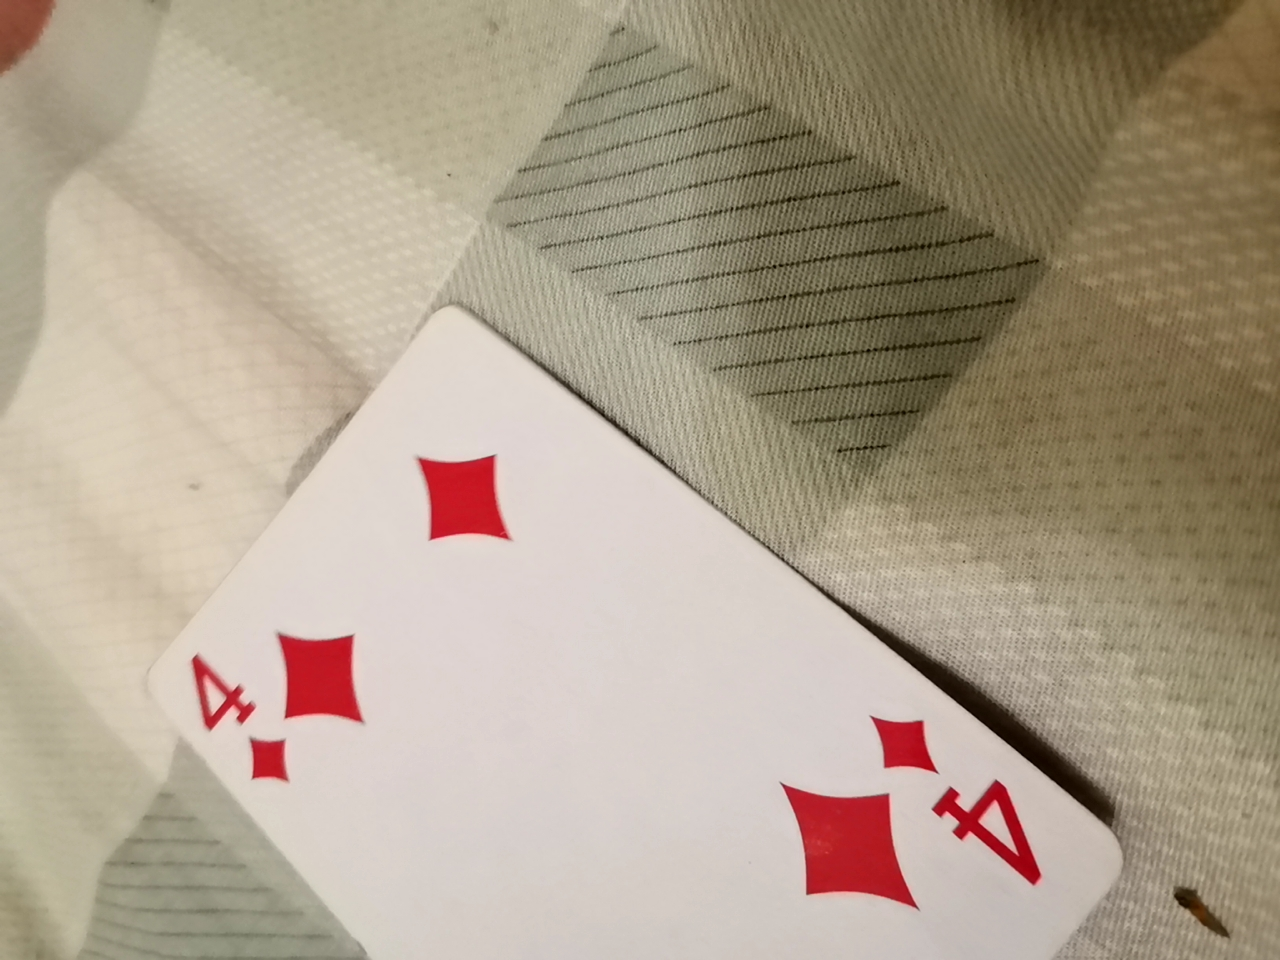fk 4: (147, 294, 1103, 958)
